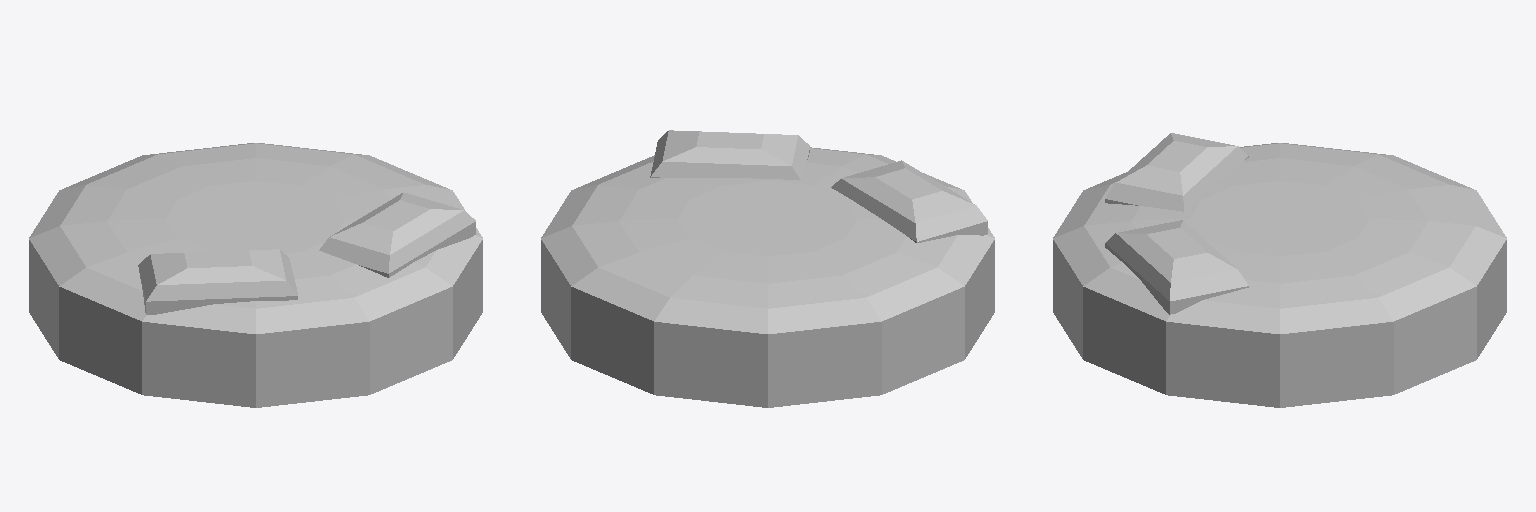
Rendered from bed_double_gemstoneislands.obj.
3 views of the same model, side by side, from view 1: azimuth 30°, elevation 25°; view 2: azimuth 150°, elevation 25°; view 3: azimuth 270°, elevation 25° (orthographic).
Parts seen in each view (by area): view 1: bed_gemstone_islands_double; view 2: bed_gemstone_islands_double; view 3: bed_gemstone_islands_double.
Part boxes in pixels (bbox=[...]): bed_gemstone_islands_double: bbox=[29, 143, 482, 407]; bed_gemstone_islands_double: bbox=[541, 130, 994, 407]; bed_gemstone_islands_double: bbox=[1053, 133, 1506, 407].
Size of the model in its own units: 1.56 by 0.425 by 1.56.